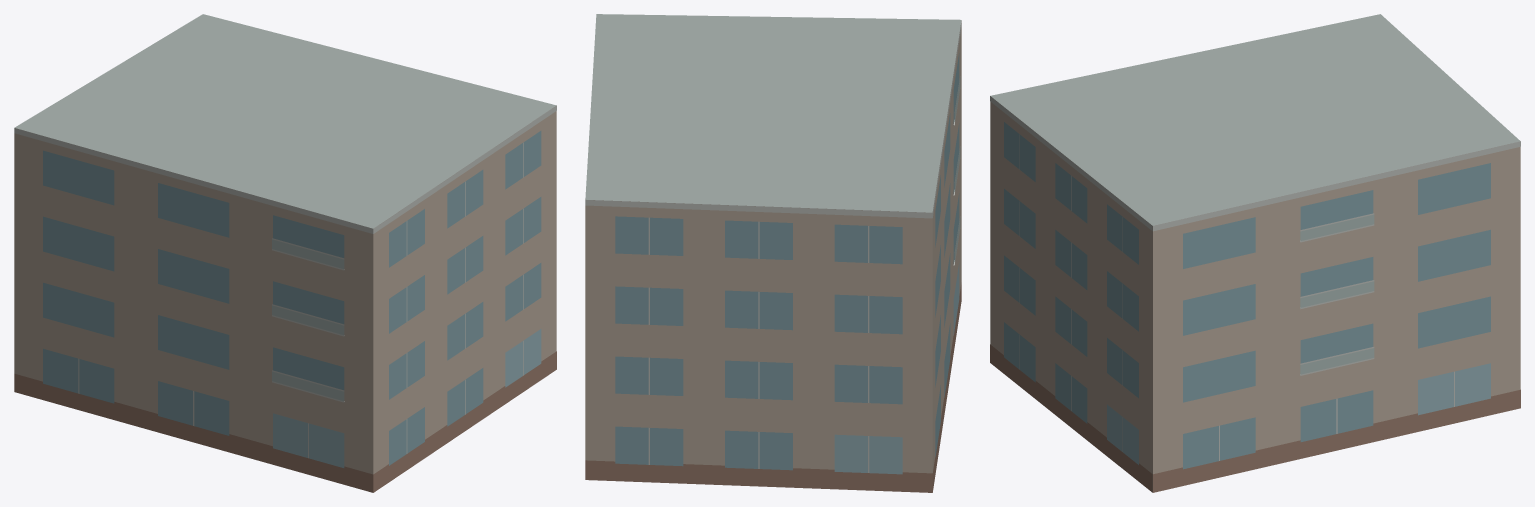
File: survey-upis-32780386.glb
The picture shows the model from 3 angles, left to right: view 1: azimuth 30°, elevation 25°; view 2: azimuth 150°, elevation 25°; view 3: azimuth 270°, elevation 25°; orthographic projection. The views are drawn at different scales.
Parts seen in each view (by area): view 1: survey-upis-32780386.tmp; view 2: survey-upis-32780386.tmp; view 3: survey-upis-32780386.tmp.
Part boxes in pixels (box(x1,y1,x2,y2)): survey-upis-32780386.tmp: box(14, 14, 556, 492); survey-upis-32780386.tmp: box(585, 14, 961, 492); survey-upis-32780386.tmp: box(990, 14, 1520, 492).
Bounding box in the file's own units: 20.27 × 11.9 × 21.45.
